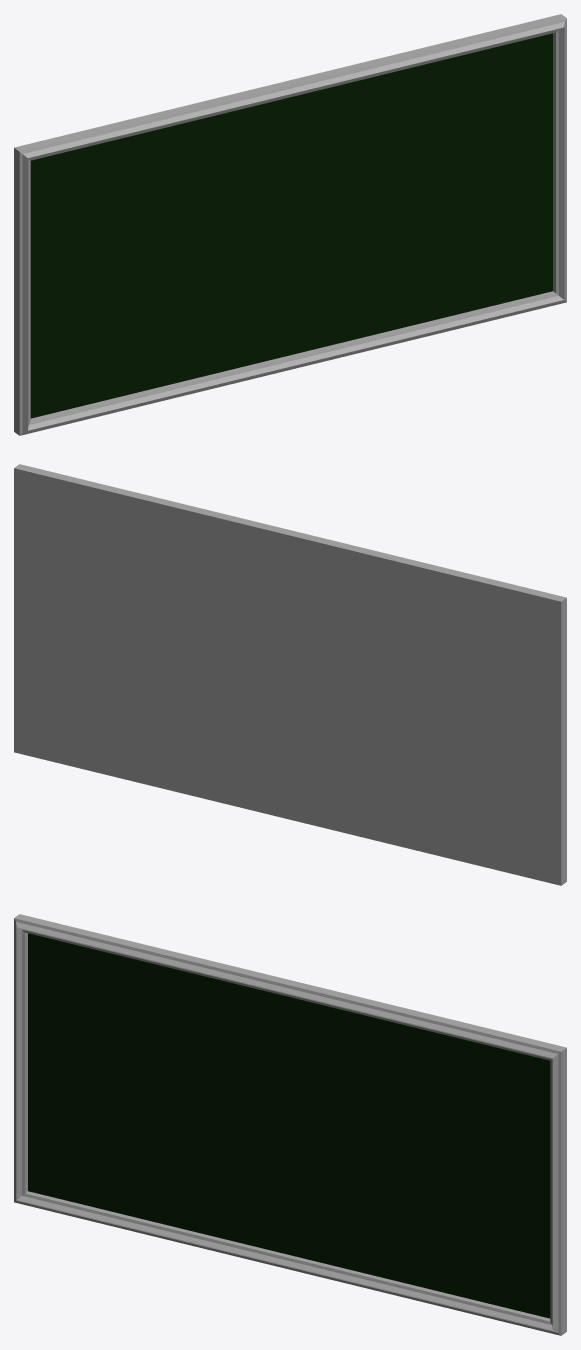
File: Notice Board.fbx
The picture shows the model from 3 angles, top to bottom: view 1: azimuth 30°, elevation 25°; view 2: azimuth 150°, elevation 25°; view 3: azimuth 330°, elevation 25°; orthographic projection.
Visible parts, largest first — view 1: Notice Board; view 2: Notice Board; view 3: Notice Board.
Boxes of the visible parts, left/top/right/bottom form: Notice Board: left=14, top=14, right=566, bottom=435; Notice Board: left=14, top=464, right=566, bottom=885; Notice Board: left=14, top=914, right=566, bottom=1335.
Size of the model in its own units: 317 by 157 by 8.44.
